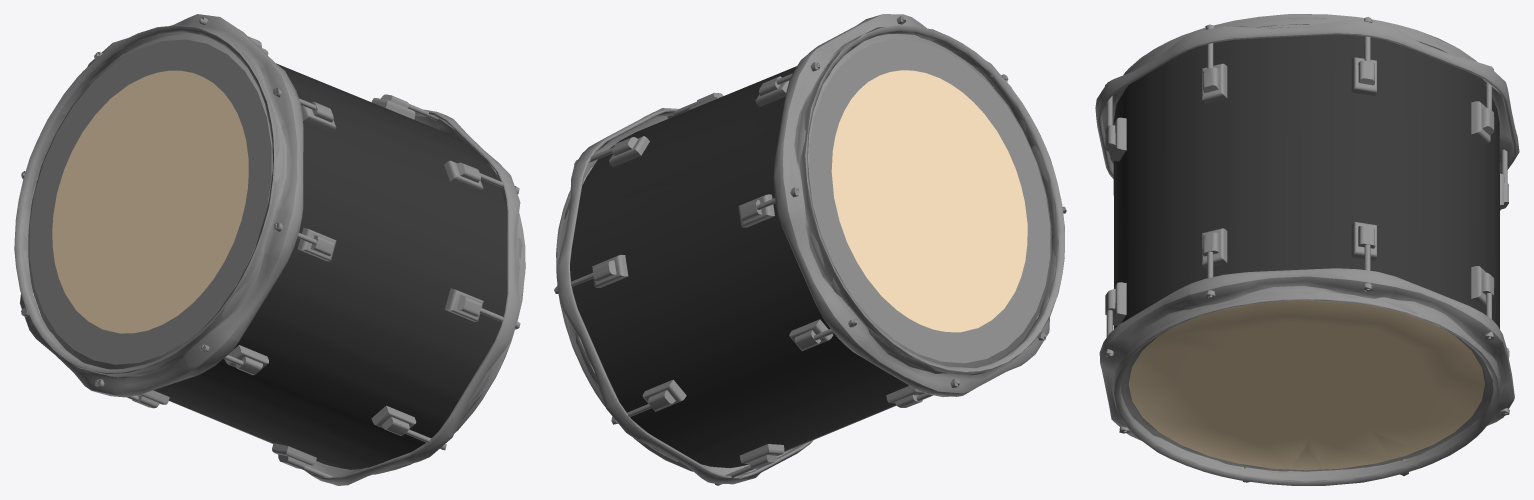
Rendered from SM_DrumKit_V1_tom_4.FBX.
3 renders of one model, left to right at view 1: azimuth 30°, elevation 25°; view 2: azimuth 150°, elevation 25°; view 3: azimuth 270°, elevation 25°, orthographic. The views are drawn at different scales.
Visible parts, largest first — view 1: SM_DrumKit_V1_tom_4; view 2: SM_DrumKit_V1_tom_4; view 3: SM_DrumKit_V1_tom_4.
Part boxes in pixels (x1,y1,x2,y2): SM_DrumKit_V1_tom_4: (14, 14, 525, 485); SM_DrumKit_V1_tom_4: (554, 14, 1066, 485); SM_DrumKit_V1_tom_4: (1095, 14, 1519, 485).
Bounding box in the file's own units: 84.57 × 76.24 × 86.09.
